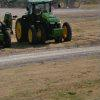Tractor: (17, 0, 84, 55)
